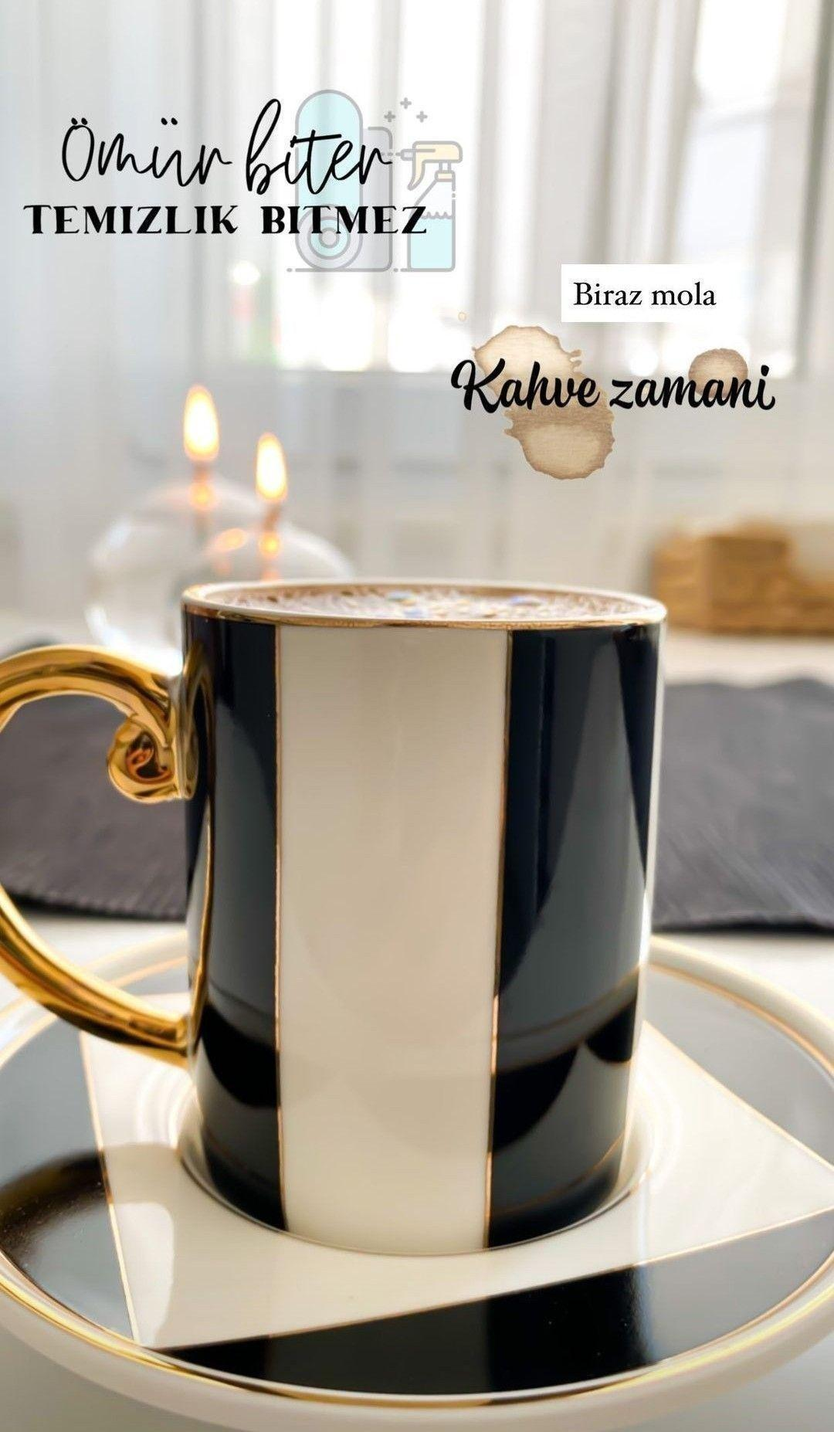cup-handle: (0, 574, 670, 1257)
